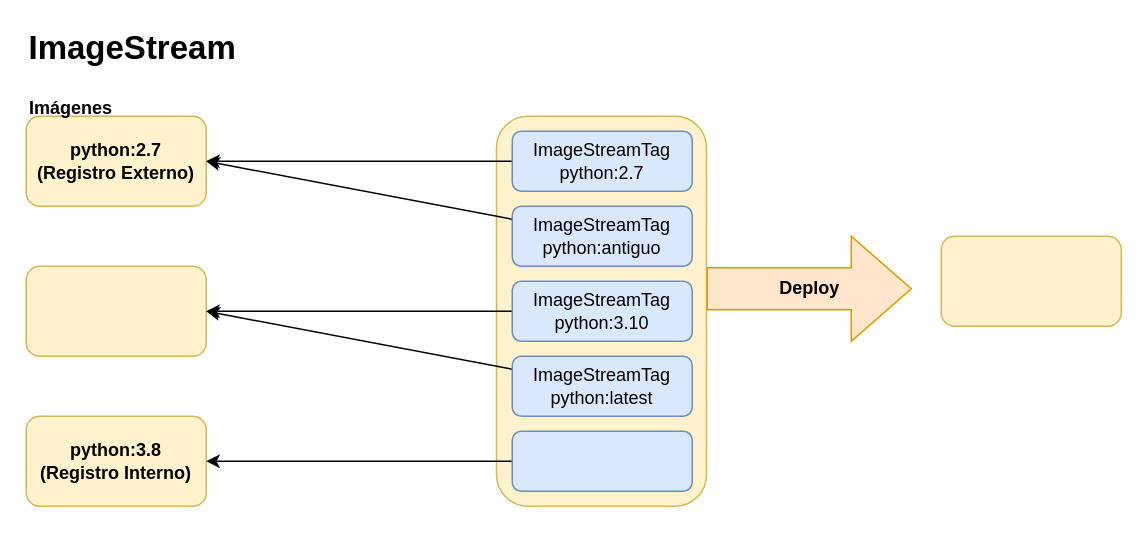
The diagram is 1148 pixels wide and 533 high, and some of its shapes have lost their labels. The shapes that lost their labels are listed below. From the top down, each one's box as (x1, y1, x2, y2) in pixels, then its label:
(940, 235, 1121, 326): Deployment Build PODS
(25, 265, 206, 356): python:3.10 (Registro Externo)
(495, 115, 706, 506): ImageStream python
(511, 430, 692, 491): ImageStreamTag python:3.8
